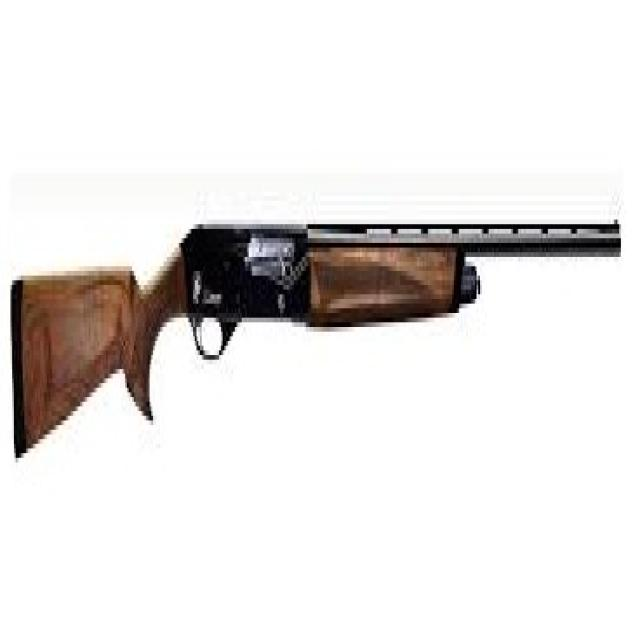rifle: (3, 186, 629, 502)
